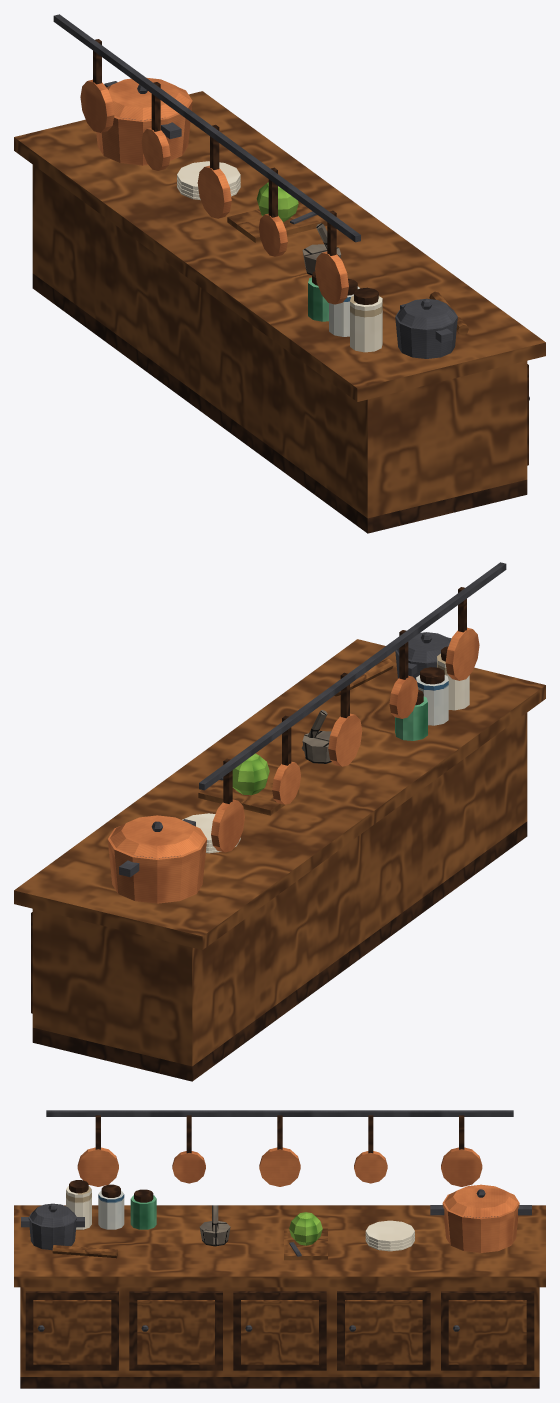
File: counter_a.glb
3 views of the same model, one above another, from view 1: azimuth 30°, elevation 25°; view 2: azimuth 150°, elevation 25°; view 3: azimuth 270°, elevation 25° (orthographic). The views are drawn at different scales.
Visible parts, largest first — view 1: counter_a__K_oak, counter_a__K_copper, counter_a__K_darkwood, counter_a__K_iron, counter_a__K_cream, counter_a__K_cabbage, counter_a__K_ceramic, counter_a__K_bottle, counter_a__K_stone; view 2: counter_a__K_oak, counter_a__K_copper, counter_a__K_darkwood, counter_a__K_iron, counter_a__K_cream, counter_a__K_cabbage, counter_a__K_ceramic, counter_a__K_stone, counter_a__K_bottle; view 3: counter_a__K_oak, counter_a__K_darkwood, counter_a__K_copper, counter_a__K_iron, counter_a__K_cream, counter_a__K_ceramic, counter_a__K_cabbage, counter_a__K_stone, counter_a__K_bottle.
Boxes of the visible parts, <box> form: counter_a__K_oak: <box>14,91,545,518</box>; counter_a__K_copper: <box>80,77,348,304</box>; counter_a__K_darkwood: <box>32,39,528,533</box>; counter_a__K_iron: <box>53,14,529,400</box>; counter_a__K_cream: <box>177,161,382,352</box>; counter_a__K_cabbage: <box>256,182,298,221</box>; counter_a__K_ceramic: <box>329,286,359,336</box>; counter_a__K_bottle: <box>308,277,328,321</box>; counter_a__K_stone: <box>302,223,341,275</box>; counter_a__K_oak: <box>14,639,545,1066</box>; counter_a__K_copper: <box>107,627,479,903</box>; counter_a__K_darkwood: <box>31,587,527,1081</box>; counter_a__K_iron: <box>119,562,506,877</box>; counter_a__K_cream: <box>182,653,469,853</box>; counter_a__K_cabbage: <box>232,753,269,795</box>; counter_a__K_ceramic: <box>416,675,448,725</box>; counter_a__K_stone: <box>301,710,331,763</box>; counter_a__K_bottle: <box>395,696,427,740</box>; counter_a__K_oak: <box>14,1205,545,1376</box>; counter_a__K_darkwood: <box>20,1115,539,1388</box>; counter_a__K_copper: <box>77,1147,519,1252</box>; counter_a__K_iron: <box>21,1110,531,1331</box>; counter_a__K_cream: <box>66,1186,414,1251</box>; counter_a__K_ceramic: <box>98,1190,124,1229</box>; counter_a__K_cabbage: <box>289,1212,322,1245</box>; counter_a__K_stone: <box>199,1205,230,1246</box>; counter_a__K_bottle: <box>130,1195,156,1229</box>.
Size of the model in its own units: 1.3 by 1.87 by 4.1.
9 materials, 9 textured.
